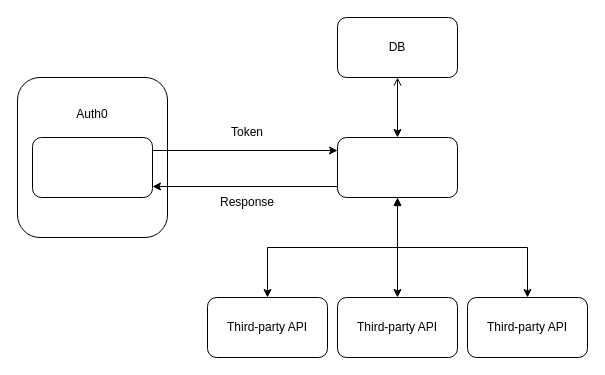
Image size: 605x375. Some labels were removed from this diagram. The shapes that lost their labels are listed below. From the top down, each one's centre as x and y in pixels, then its label:
At pixel 92 167: "Frontend".
At pixel 397 167: "Backend".
